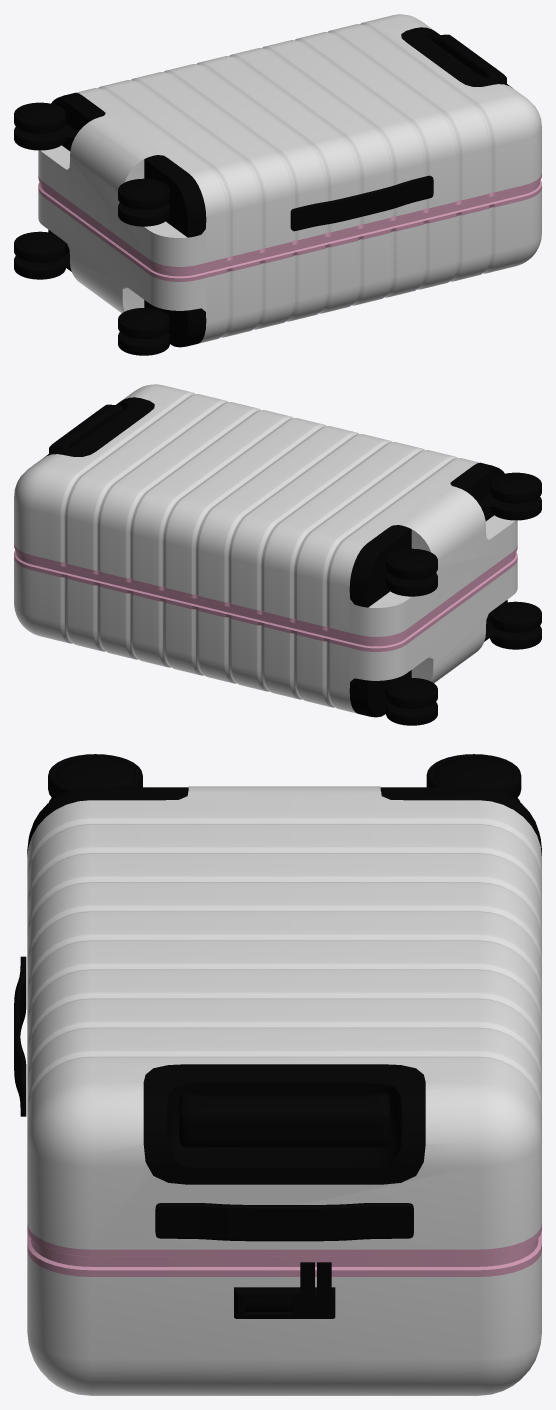
The model's file is HandLuggage.fbx.
The picture shows the model from 3 angles, top to bottom: view 1: azimuth 30°, elevation 25°; view 2: azimuth 150°, elevation 25°; view 3: azimuth 270°, elevation 25°; orthographic projection. The views are drawn at different scales.
Parts seen in each view (by area): view 1: Cube, Circle, Cube.002, Plane.004, Cube.003, Plane.001, Plane; view 2: Cube, Circle, Cube.002, Cube.003, Plane.001, Plane; view 3: Cube, Cube.003, Plane.001, Plane.003, Circle, Cube.002, Plane.005, Plane.004, Plane.006.
Boxes of the visible parts, bbox=[...] form: Cube: bbox=[38, 14, 541, 343]; Circle: bbox=[14, 102, 169, 355]; Cube.002: bbox=[48, 92, 206, 347]; Plane.004: bbox=[290, 175, 433, 231]; Cube.003: bbox=[401, 27, 511, 87]; Plane.001: bbox=[432, 34, 506, 83]; Plane: bbox=[40, 123, 170, 329]; Cube: bbox=[14, 384, 517, 713]; Circle: bbox=[386, 472, 541, 725]; Cube.002: bbox=[349, 462, 507, 717]; Cube.003: bbox=[44, 397, 154, 457]; Plane.001: bbox=[49, 404, 123, 453]; Plane: bbox=[385, 493, 515, 699]; Cube: bbox=[27, 786, 541, 1395]; Cube.003: bbox=[143, 1064, 425, 1184]; Plane.001: bbox=[179, 1092, 390, 1147]; Plane.003: bbox=[155, 1203, 413, 1241]; Circle: bbox=[48, 754, 521, 801]; Cube.002: bbox=[27, 787, 541, 856]; Plane.005: bbox=[234, 1287, 335, 1318]; Plane.004: bbox=[14, 956, 26, 1116]; Plane.006: bbox=[300, 1262, 331, 1311].
Bounding box in the file's own units: 59.67 × 23.16 × 35.71.
